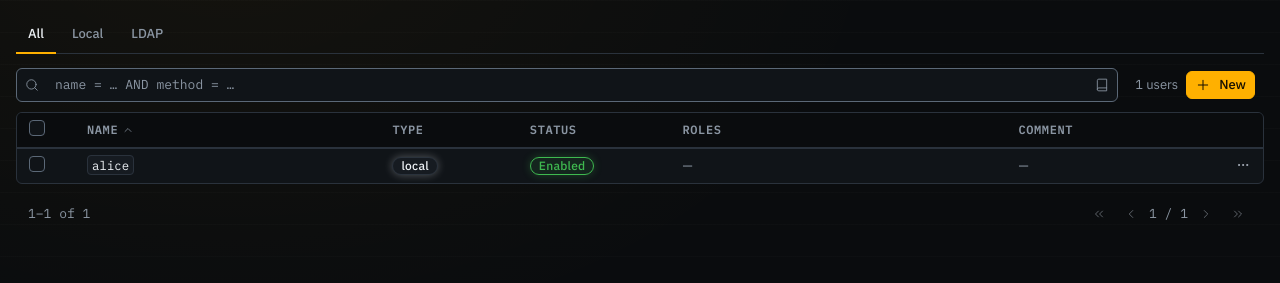
Test case: UsersPage › selecting a row switches the toolbar to the amber bulk-actions chip
Expected: the text "alice" is shown, left=87, top=155, right=134, bottom=175
Click the checkbox named "select row" at point(37, 164), box left=29, top=156, right=45, bottom=172
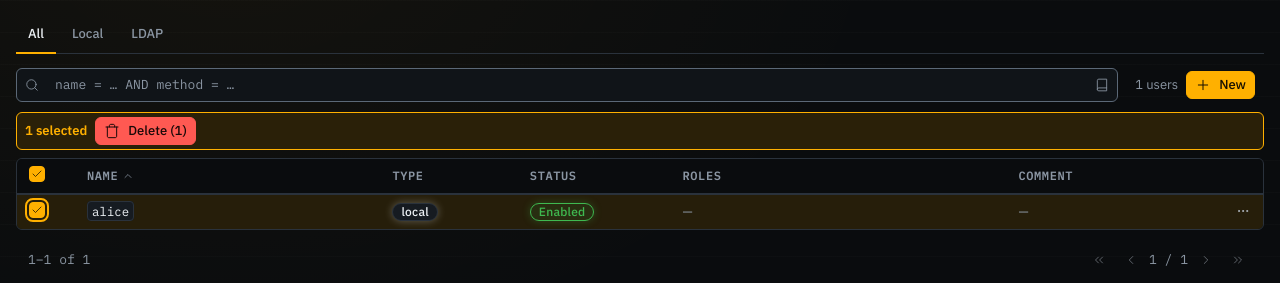
Expected: the element named "bulk actions" is shown, left=16, top=112, right=1264, bottom=150
Expected: the text "1 selected" is shown, left=25, top=121, right=87, bottom=140
